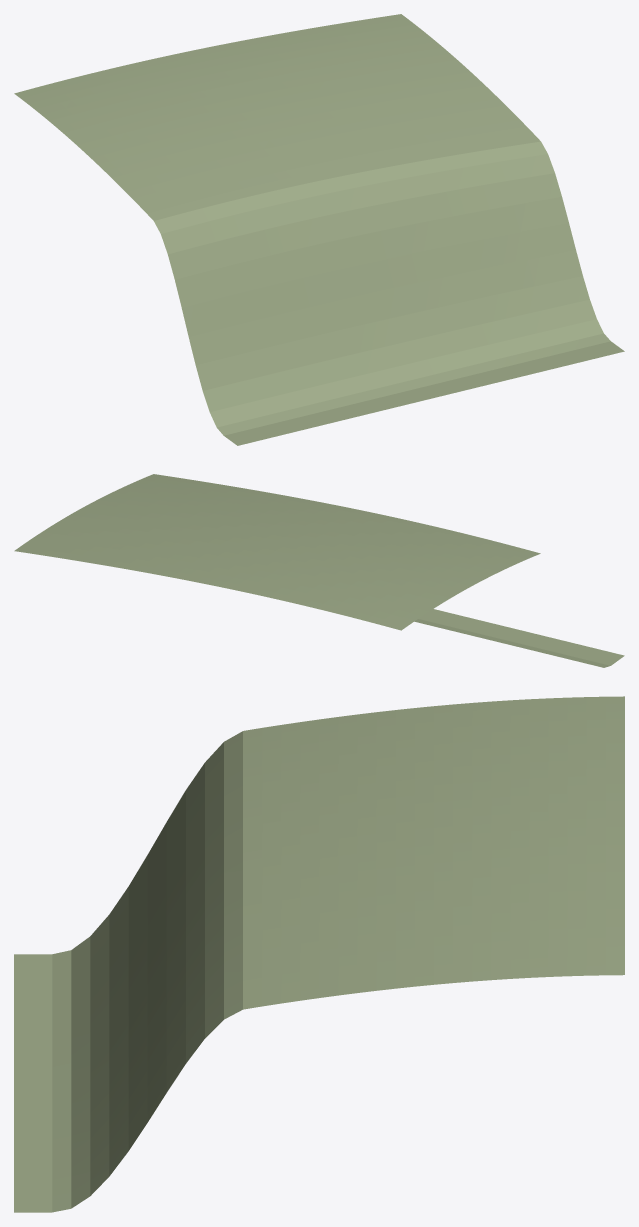
The model's file is valley-2-1.glb.
3 renders of one model, top to bottom at view 1: azimuth 30°, elevation 25°; view 2: azimuth 150°, elevation 25°; view 3: azimuth 270°, elevation 25°, orthographic. The views are drawn at different scales.
Parts seen in each view (by area): view 1: valley-2-1; view 2: valley-2-1; view 3: valley-2-1.
Boxes of the visible parts, bbox=[...] form: valley-2-1: bbox=[14, 14, 624, 445]; valley-2-1: bbox=[14, 474, 624, 667]; valley-2-1: bbox=[14, 696, 624, 1212].
Bounding box in the file's own units: 256 × 120 × 256.
